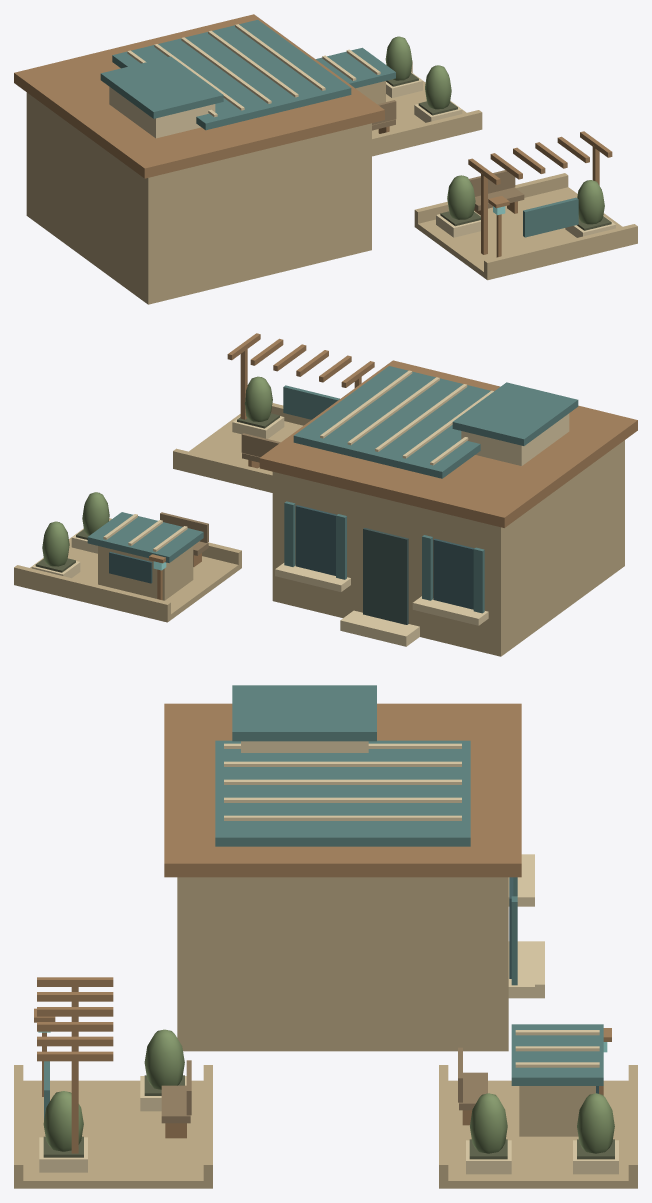
The model's file is dust2.glb.
3 renders of one model, top to bottom at view 1: azimuth 30°, elevation 25°; view 2: azimuth 150°, elevation 25°; view 3: azimuth 270°, elevation 25°, orthographic. The views are drawn at different scales.
Parts seen in each view (by area): view 1: ARENA wall (×3), ARENA roof (×2), ARENA canopy (×2), ARENA stone (×6), ARENA paving (×2), ARENA leaves (×4), ARENA wood (×6), ARENA metal; view 2: ARENA wall (×3), ARENA roof (×2), ARENA canopy (×2), ARENA window (×4), ARENA wood (×10), ARENA paving (×2), ARENA stone (×4), ARENA trim (×3), ARENA leaves (×3), ARENA metal; view 3: ARENA wall (×3), ARENA roof (×2), ARENA canopy (×2), ARENA paving (×2), ARENA wood (×13), ARENA stone (×7), ARENA leaves (×4), ARENA trim (×3).
Part boxes in pixels (box(x1,y1,x2,y2)): ARENA wall (×3): box(26, 81, 385, 304); ARENA roof (×2): box(14, 14, 384, 178); ARENA canopy (×2): box(112, 19, 395, 130); ARENA stone (×6): box(372, 72, 637, 275); ARENA paving (×2): box(372, 73, 637, 280); ARENA leaves (×4): box(385, 36, 604, 224); ARENA wood (×6): box(181, 24, 524, 254); ARENA metal: box(523, 197, 578, 237); ARENA wall (×3): box(98, 413, 624, 656); ARENA roof (×2): box(259, 360, 637, 527); ARENA canopy (×2): box(87, 366, 490, 562); ARENA window (×4): box(109, 505, 474, 624); ARENA wood (×10): box(160, 347, 484, 613); ARENA paving (×2): box(14, 414, 303, 622); ARENA stone (×4): box(14, 416, 284, 617); ARENA trim (×3): box(275, 563, 488, 646); ARENA leaves (×3): box(42, 376, 272, 566); ARENA metal: box(283, 385, 339, 419); ARENA wall (×3): box(177, 741, 595, 1136); ARENA roof (×2): box(164, 685, 521, 877); ARENA canopy (×2): box(215, 740, 603, 1085); ARENA paving (×2): box(14, 1080, 637, 1188); ARENA wood (×13): box(37, 761, 487, 1153); ARENA stone (×7): box(14, 1065, 637, 1184); ARENA leaves (×4): box(43, 1029, 614, 1153); ARENA trim (×3): box(508, 854, 544, 998).
Bounding box in the file's own units: 8.12 × 3.04 × 7.34.
